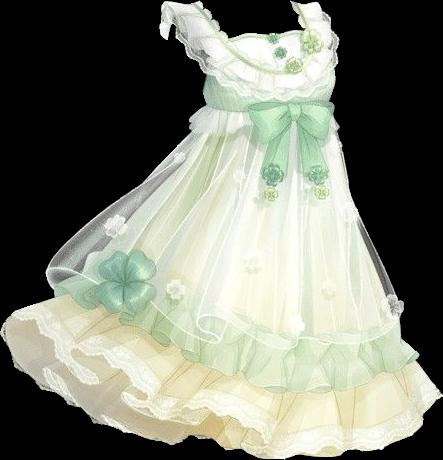Bodice: (159, 0, 339, 115)
Hemline: (8, 313, 442, 459), (42, 264, 407, 346), (188, 116, 341, 139)
Neckline: (196, 0, 308, 41), (223, 28, 315, 72)
Skirt: (0, 106, 442, 458)
Waistline: (160, 3, 337, 97), (205, 102, 331, 118)
